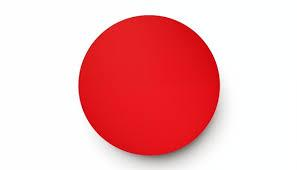red_circle: (70, 6, 229, 164)
